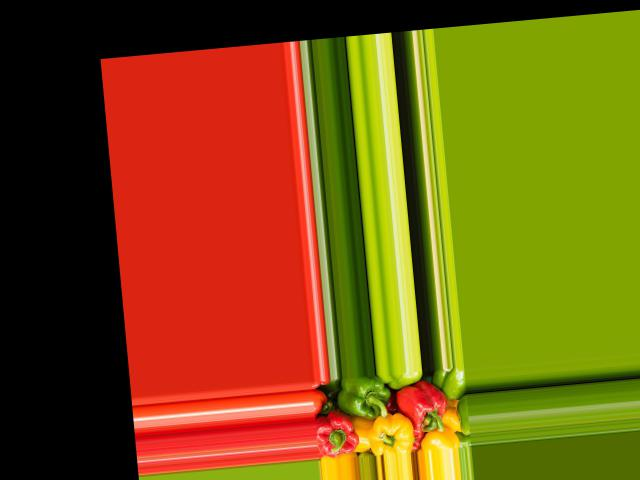bell_pepper: (314, 407, 365, 459)
